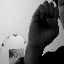e: (27, 1, 61, 40)
